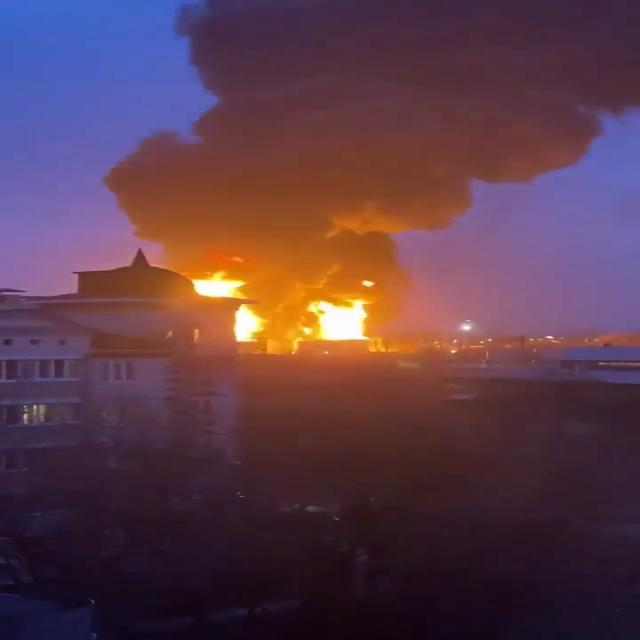Fire: (299, 300, 369, 342), (235, 306, 259, 342), (192, 280, 244, 296)
Smoke: (102, 0, 640, 250)
